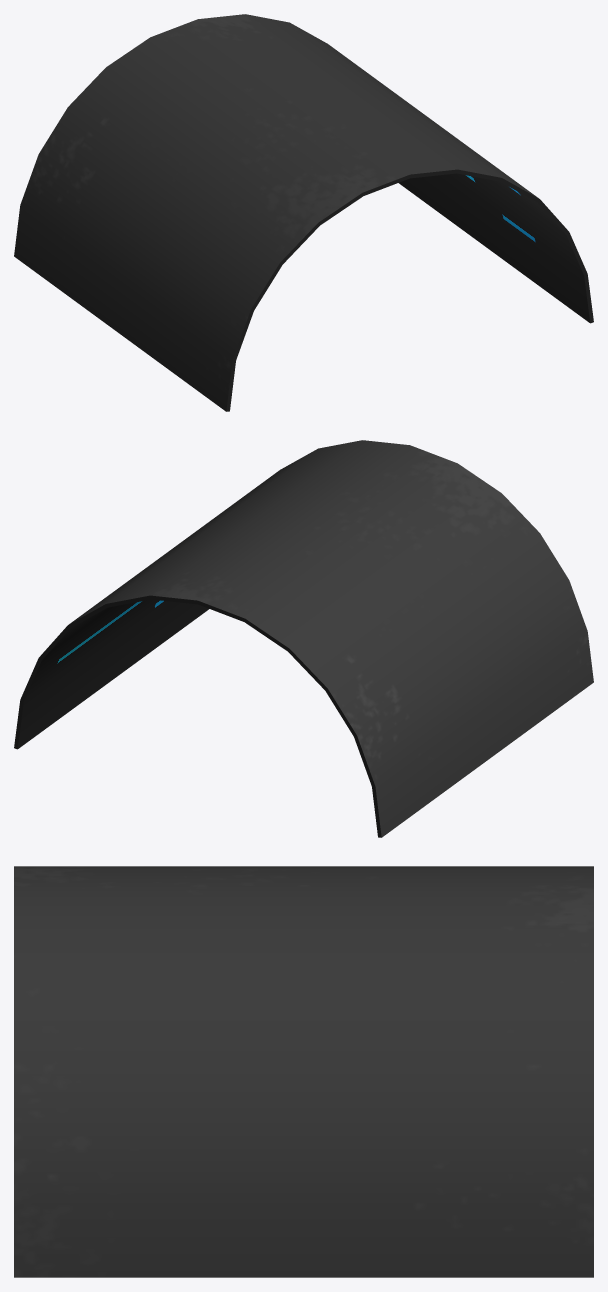
File: tunnel.fbx
The picture shows the model from 3 angles, top to bottom: view 1: azimuth 30°, elevation 25°; view 2: azimuth 150°, elevation 25°; view 3: azimuth 270°, elevation 25°; orthographic projection. The views are drawn at different scales.
Parts seen in each view (by area): view 1: Cylinder; view 2: Cylinder; view 3: Cylinder.
Boxes of the visible parts, x1,y1,x2,y2 form: Cylinder: [14, 14, 593, 411]; Cylinder: [14, 440, 593, 837]; Cylinder: [14, 866, 593, 1277].
Size of the model in its own units: 2 by 1 by 2.
1 material, 1 textured.
